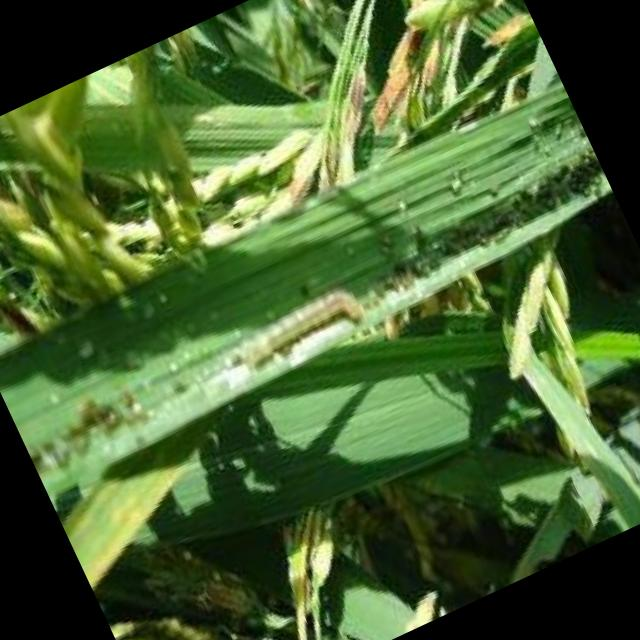leaf-folder: (203, 247, 392, 402)
